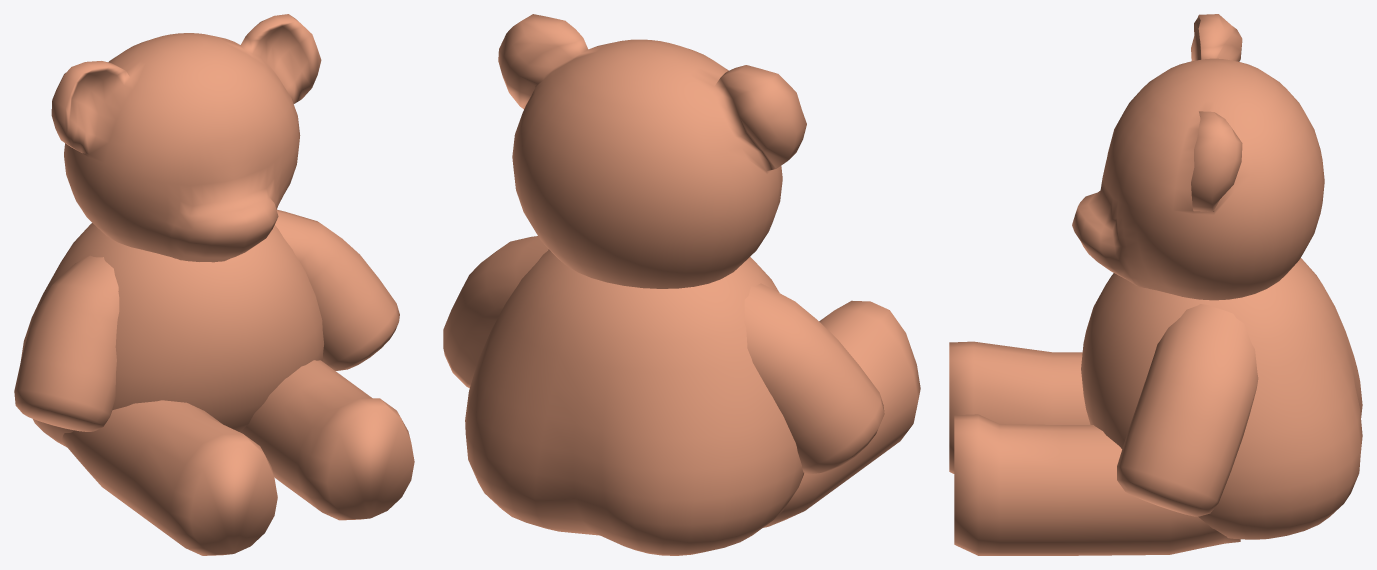
File: teddyBear.fbx
3 views of the same model, side by side, from view 1: azimuth 30°, elevation 25°; view 2: azimuth 150°, elevation 25°; view 3: azimuth 270°, elevation 25° (orthographic). The views are drawn at different scales.
Visible parts, largest first — view 1: 柱体.001; view 2: 柱体.001; view 3: 柱体.001.
Boxes of the visible parts, bbox=[...] form: 柱体.001: bbox=[14, 14, 414, 555]; 柱体.001: bbox=[443, 14, 920, 555]; 柱体.001: bbox=[949, 14, 1362, 555].
Size of the model in its own units: 398 by 423 by 356.
